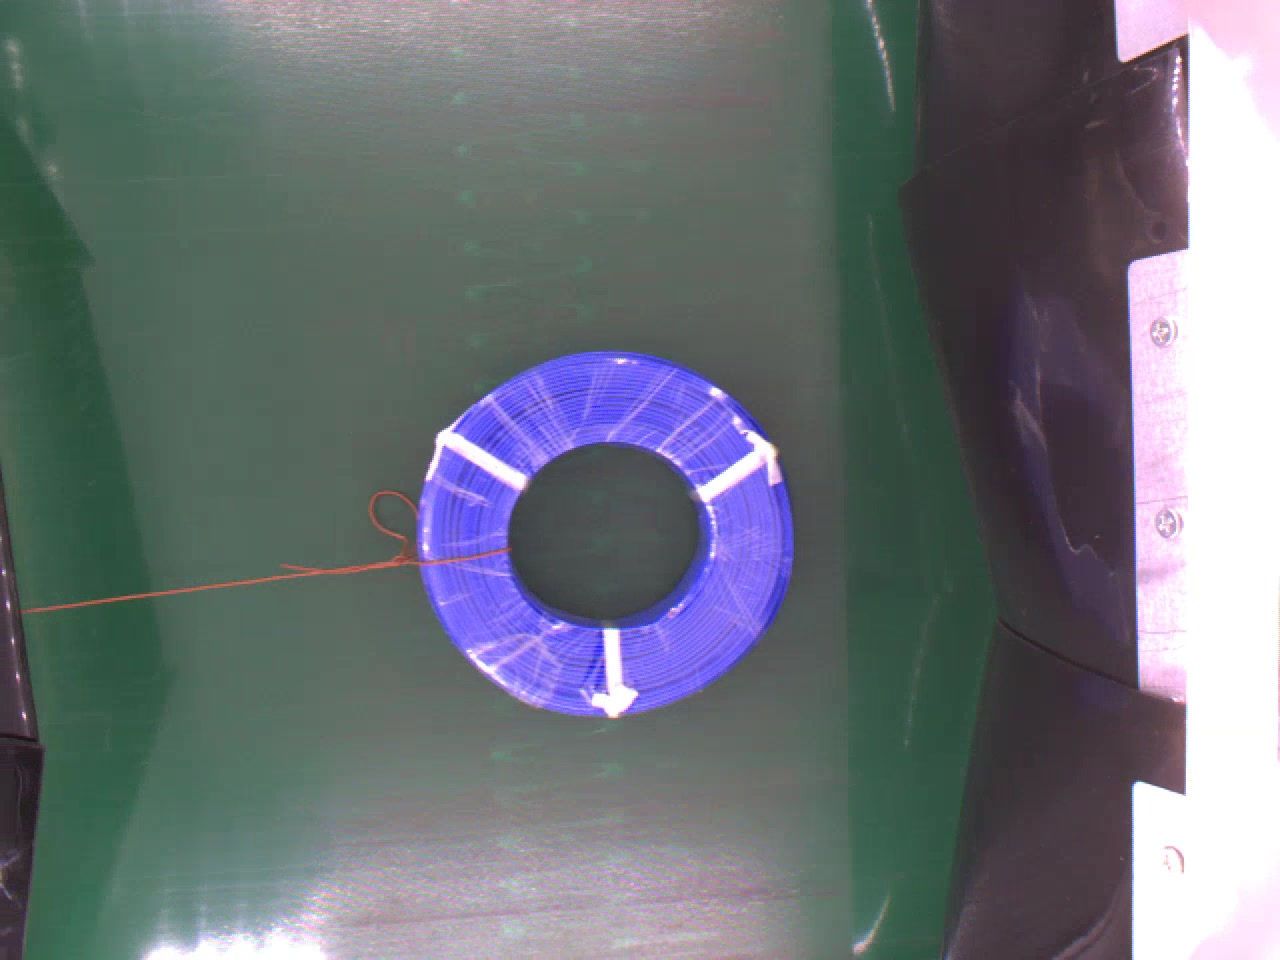blue: (408, 347, 797, 718)
